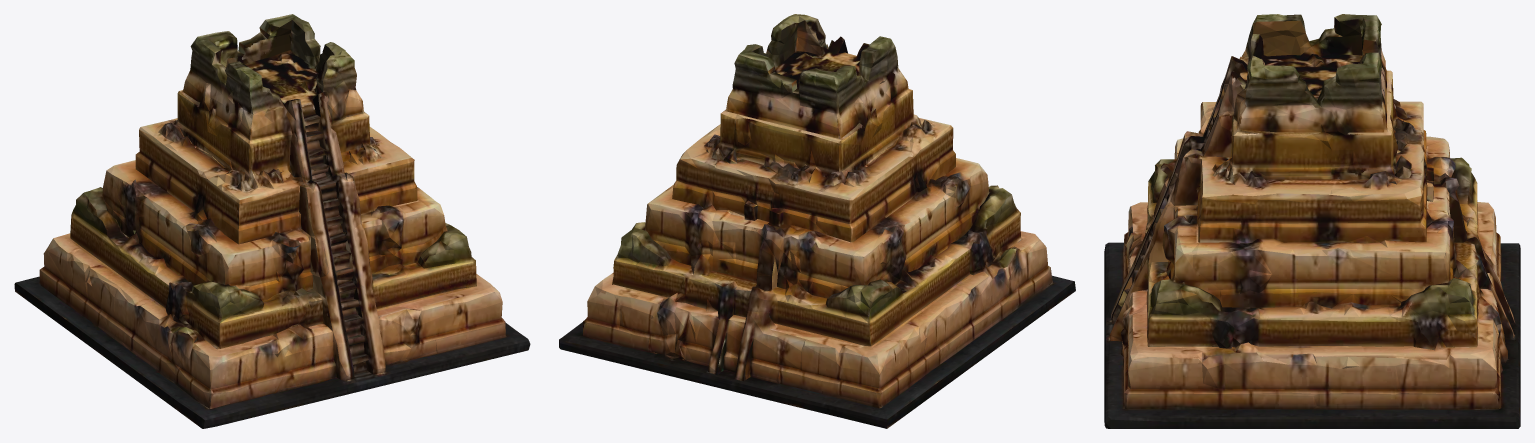
File: temple-ziggurat.glb
3 renders of one model, left to right at view 1: azimuth 30°, elevation 25°; view 2: azimuth 150°, elevation 25°; view 3: azimuth 270°, elevation 25°, orthographic. The views are drawn at different scales.
Parts seen in each view (by area): view 1: tmpy3kulmj9.ply; view 2: tmpy3kulmj9.ply; view 3: tmpy3kulmj9.ply.
Boxes of the visible parts, x1,y1,x2,y2 form: tmpy3kulmj9.ply: [14, 14, 530, 428]; tmpy3kulmj9.ply: [559, 14, 1075, 428]; tmpy3kulmj9.ply: [1104, 14, 1520, 428].
Size of the model in its own units: 5 by 4 by 5.
1 material, 1 textured.
